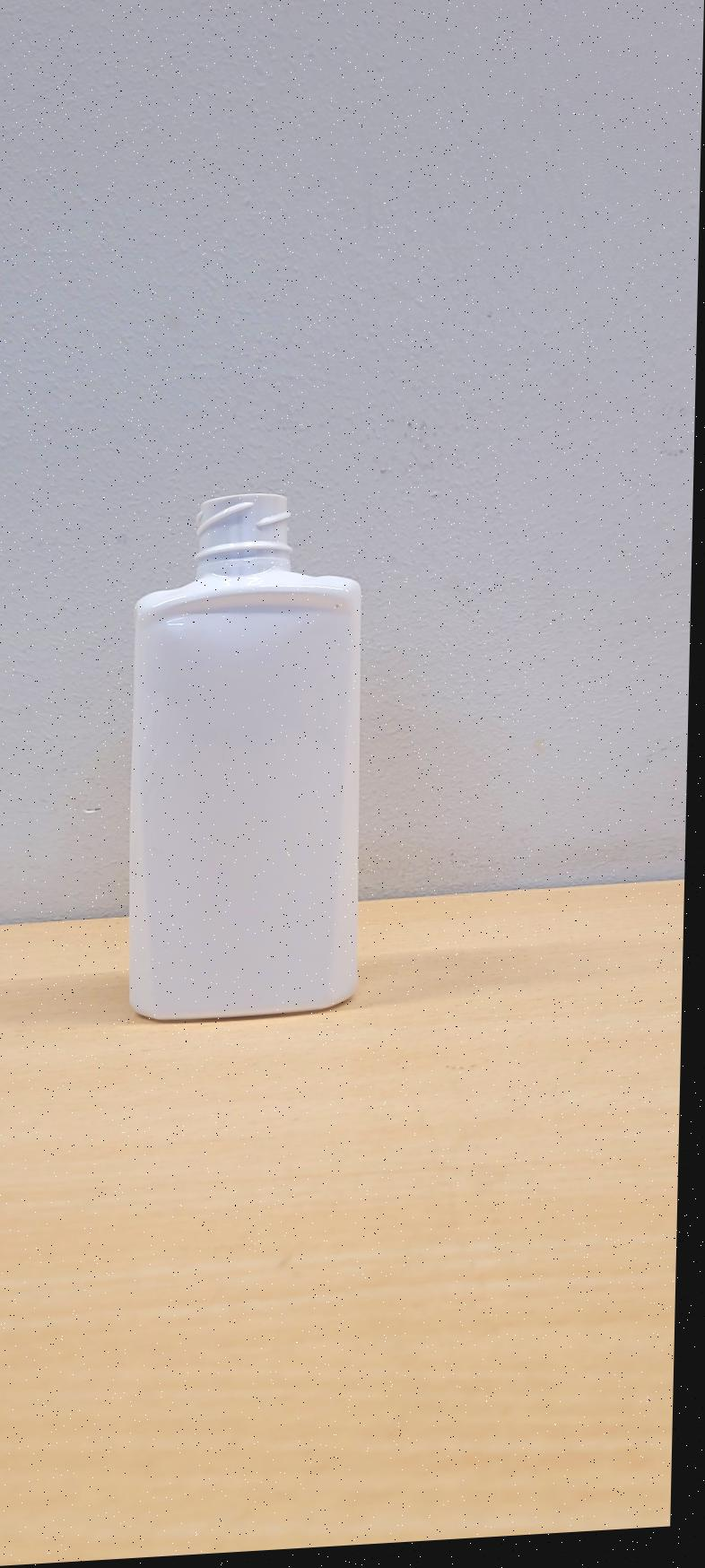bottle: (129, 493, 361, 1021)
